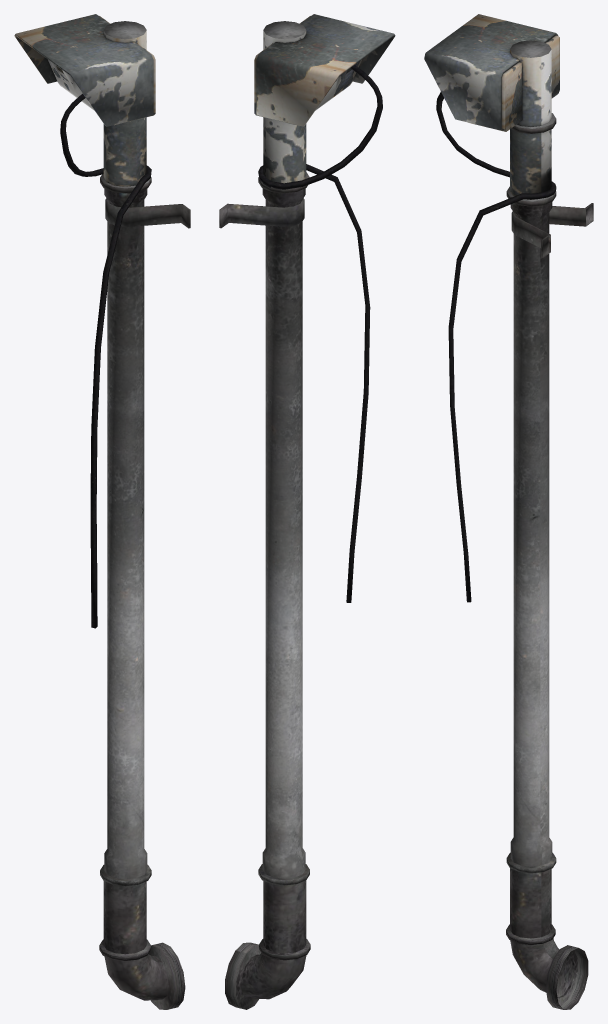
Rendered from SM_electricalpole_01.fbx.
3 renders of one model, left to right at view 1: azimuth 30°, elevation 25°; view 2: azimuth 150°, elevation 25°; view 3: azimuth 330°, elevation 25°, orthographic. The views are drawn at different scales.
Visible parts, largest first — view 1: SM_electricalpole_01; view 2: SM_electricalpole_01; view 3: SM_electricalpole_01.
Boxes of the visible parts, x1,y1,x2,y2 form: SM_electricalpole_01: (14,14,190,1009); SM_electricalpole_01: (219,14,395,1009); SM_electricalpole_01: (424,14,593,1009).
Size of the model in its own units: 54.56 by 45.17 by 410.
1 material, 1 textured.
